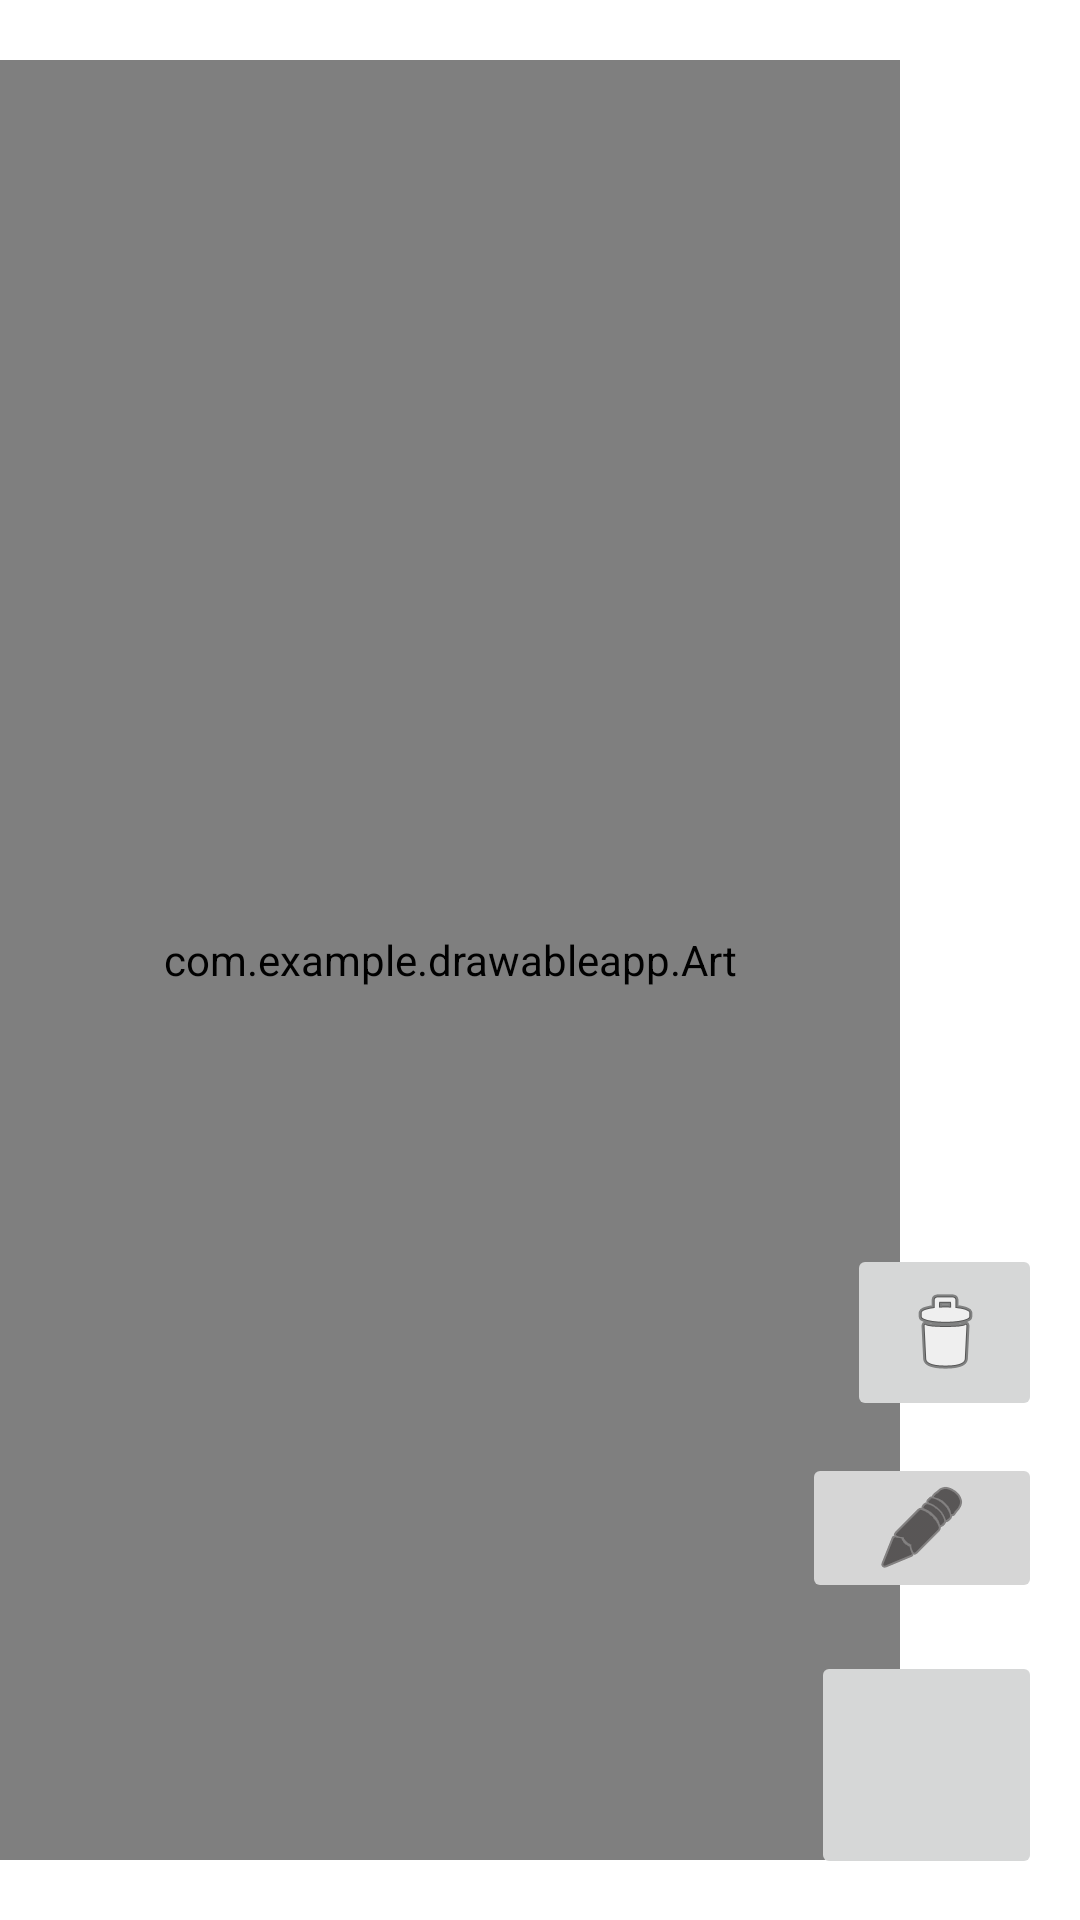

Screen size 1080px x 1920px. Icon name, then its center in pixels as (x=x, y=y):
delete: (x=938, y=1332)
edit: (x=922, y=1528)
